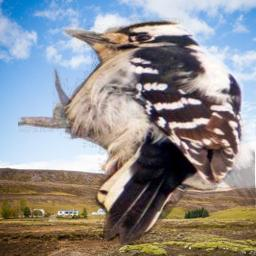Woodpecker: (18, 17, 255, 245)
